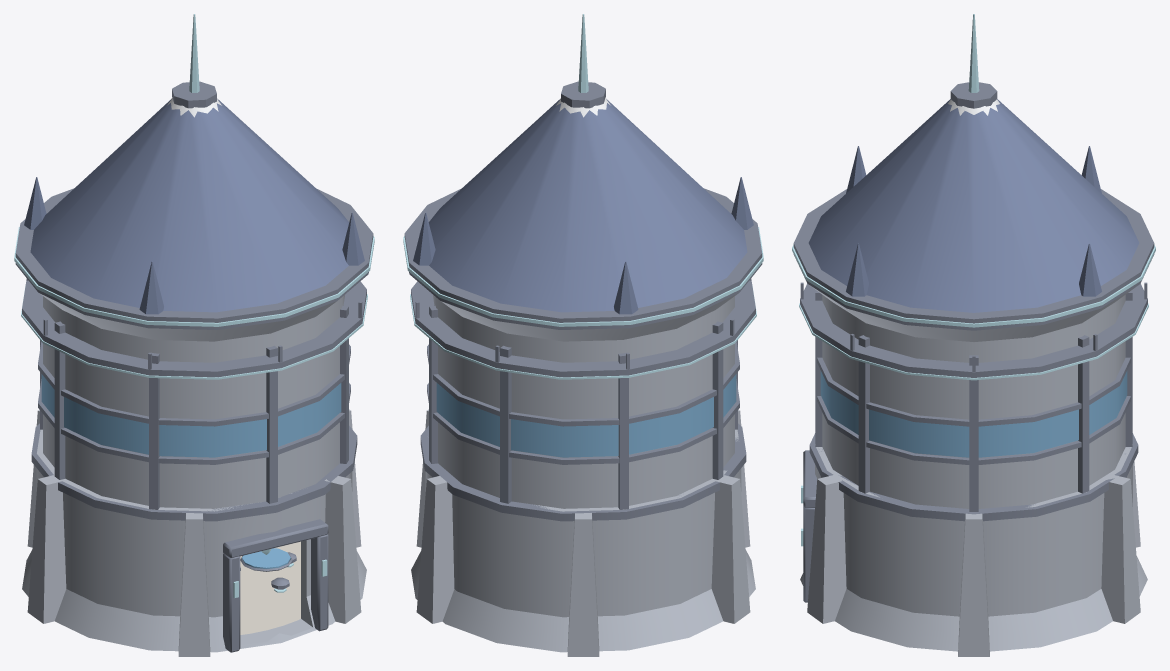
The model's file is CiudadTorre.fbx.
3 views of the same model, side by side, from view 1: azimuth 30°, elevation 25°; view 2: azimuth 150°, elevation 25°; view 3: azimuth 270°, elevation 25° (orthographic).
Parts seen in each view (by area): view 1: CiudadTorre_Tope_Techo, CiudadTorre_Base_Cuerpo, CiudadTorre_Medio_Cuerpo, CiudadTorre_Medio_Metal, CiudadTorre_Base_Metal, CiudadTorre_Medio_Cristal, CiudadTorre_Tope_Metal, CiudadTorre_Tope_Cuerpo, CiudadTorre_Base_Forro, CiudadTorre_Tope_Luz, CiudadTorre_Medio_Luz, CiudadTorre_Base_Cristal; view 2: CiudadTorre_Tope_Techo, CiudadTorre_Base_Cuerpo, CiudadTorre_Medio_Cuerpo, CiudadTorre_Medio_Metal, CiudadTorre_Medio_Cristal, CiudadTorre_Tope_Metal, CiudadTorre_Tope_Cuerpo, CiudadTorre_Base_Metal, CiudadTorre_Tope_Luz, CiudadTorre_Medio_Luz; view 3: CiudadTorre_Tope_Techo, CiudadTorre_Base_Cuerpo, CiudadTorre_Medio_Cuerpo, CiudadTorre_Medio_Metal, CiudadTorre_Medio_Cristal, CiudadTorre_Tope_Metal, CiudadTorre_Tope_Cuerpo, CiudadTorre_Base_Metal, CiudadTorre_Tope_Luz, CiudadTorre_Medio_Luz.
Boxes of the visible parts, box(x1,y1,x2,y2) form: CiudadTorre_Tope_Techo: box(24, 99, 364, 314); CiudadTorre_Base_Cuerpo: box(22, 409, 366, 656); CiudadTorre_Medio_Cuerpo: box(43, 294, 345, 508); CiudadTorre_Medio_Metal: box(22, 278, 366, 509); CiudadTorre_Base_Metal: box(31, 423, 357, 652); CiudadTorre_Medio_Cristal: box(41, 374, 341, 457); CiudadTorre_Tope_Metal: box(15, 81, 373, 329); CiudadTorre_Tope_Cuerpo: box(39, 293, 343, 354); CiudadTorre_Base_Forro: box(240, 541, 300, 634); CiudadTorre_Tope_Luz: box(14, 14, 374, 326); CiudadTorre_Medio_Luz: box(21, 285, 367, 379); CiudadTorre_Base_Cristal: box(242, 548, 290, 568); CiudadTorre_Tope_Techo: box(413, 99, 753, 314); CiudadTorre_Base_Cuerpo: box(411, 409, 755, 656); CiudadTorre_Medio_Cuerpo: box(432, 294, 734, 508); CiudadTorre_Medio_Metal: box(411, 278, 755, 509); CiudadTorre_Medio_Cristal: box(436, 374, 736, 457); CiudadTorre_Tope_Metal: box(404, 81, 762, 329); CiudadTorre_Tope_Cuerpo: box(434, 293, 738, 354); CiudadTorre_Base_Metal: box(420, 423, 746, 521); CiudadTorre_Tope_Luz: box(403, 14, 763, 326); CiudadTorre_Medio_Luz: box(410, 285, 756, 379); CiudadTorre_Tope_Techo: box(808, 99, 1139, 312); CiudadTorre_Base_Cuerpo: box(800, 444, 1147, 656); CiudadTorre_Medio_Cuerpo: box(822, 295, 1125, 508); CiudadTorre_Medio_Metal: box(800, 282, 1147, 511); CiudadTorre_Medio_Cristal: box(820, 371, 1127, 457); CiudadTorre_Tope_Metal: box(793, 82, 1154, 330); CiudadTorre_Tope_Cuerpo: box(809, 285, 1138, 355); CiudadTorre_Base_Metal: box(803, 433, 1138, 602); CiudadTorre_Tope_Luz: box(792, 14, 1155, 327); CiudadTorre_Medio_Luz: box(799, 303, 1148, 380).
Size of the model in its own units: 3460 by 5880 by 3430.
